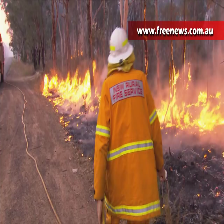fire_h: (42, 60, 101, 109), (156, 66, 190, 129), (191, 90, 223, 132)
fire_l: (186, 64, 193, 84), (70, 50, 84, 59), (59, 116, 69, 128), (64, 134, 71, 142), (215, 190, 219, 197), (207, 148, 212, 152)
